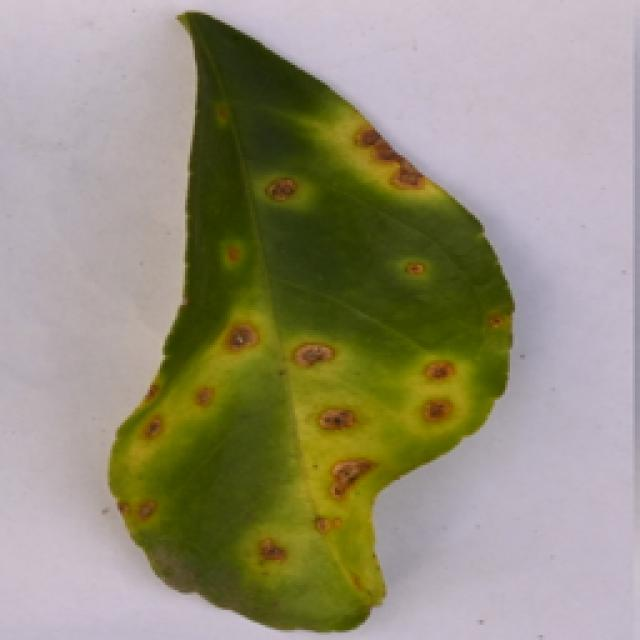canker: (109, 19, 514, 631)
